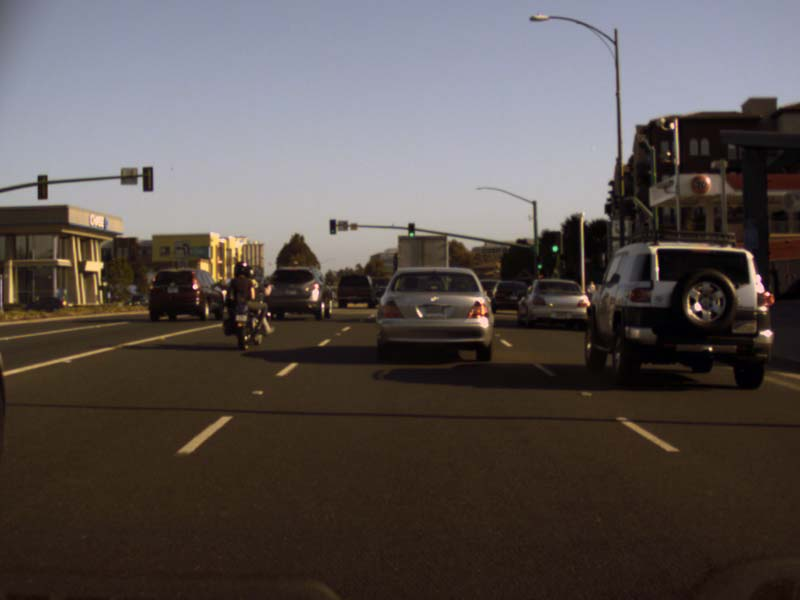Green: (548, 232, 560, 254), (535, 255, 543, 270), (407, 223, 413, 238), (329, 220, 335, 233)
